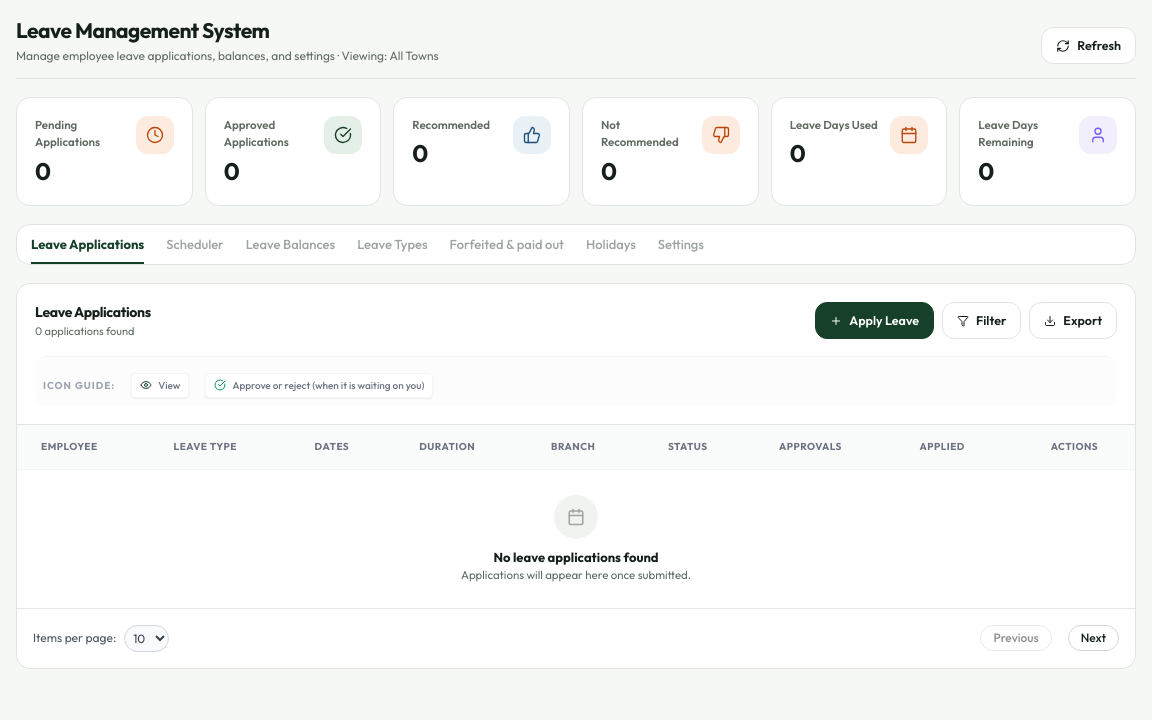
it: leave types by module (hr-admin) › a role of the company’s own based on Manager, with hr-admin, does
Click the button "Leave Types": [392, 249] box x1=357 y1=234 x2=428 y2=264
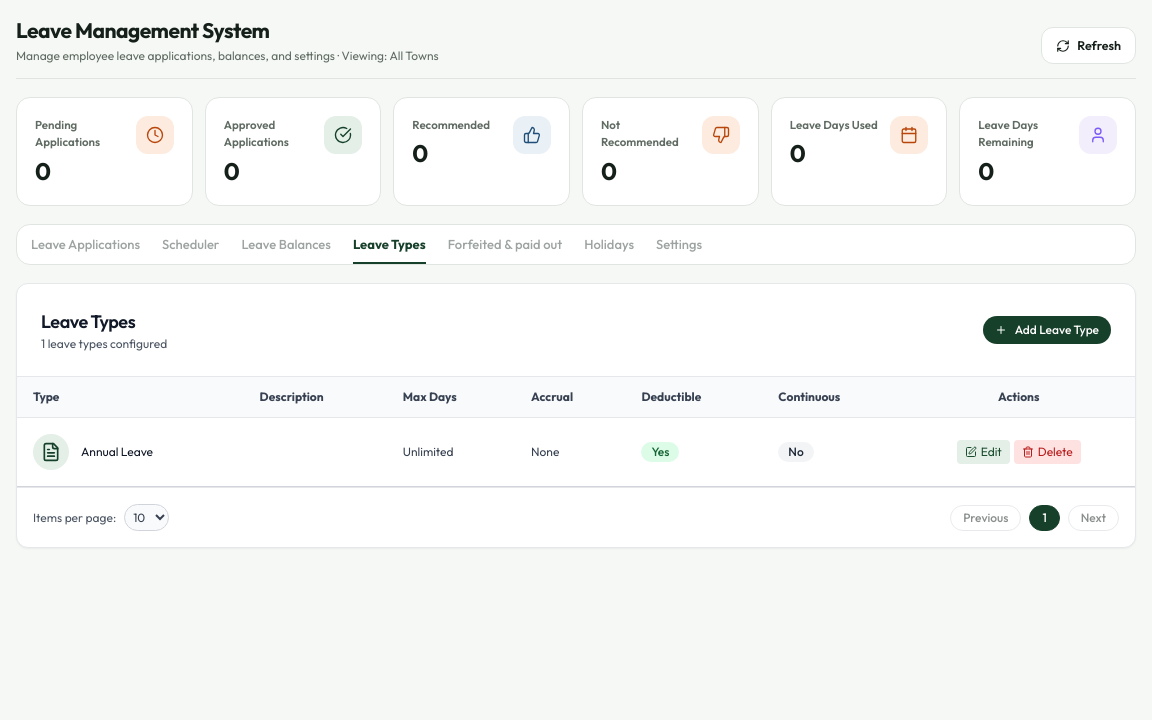
expect the text "Annual Leave" is shown: met, box x1=81 y1=444 x2=153 y2=460
expect the button "Add Leave Type" is shown: met, box x1=983 y1=316 x2=1111 y2=344
expect the button "Delete" is shown: met, box x1=1014 y1=440 x2=1081 y2=464
